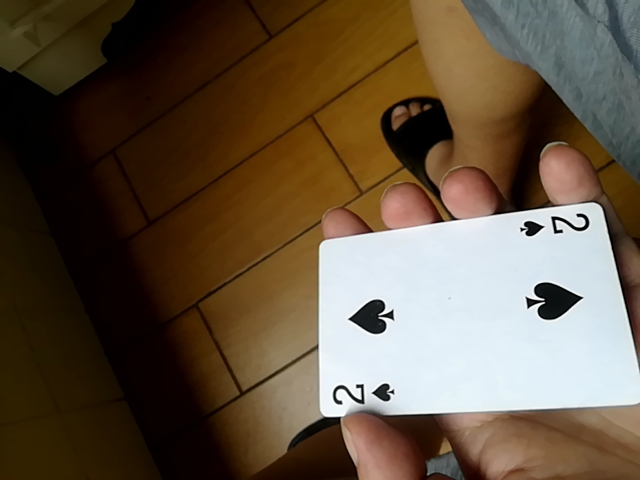ht 2: (320, 196, 637, 416)
